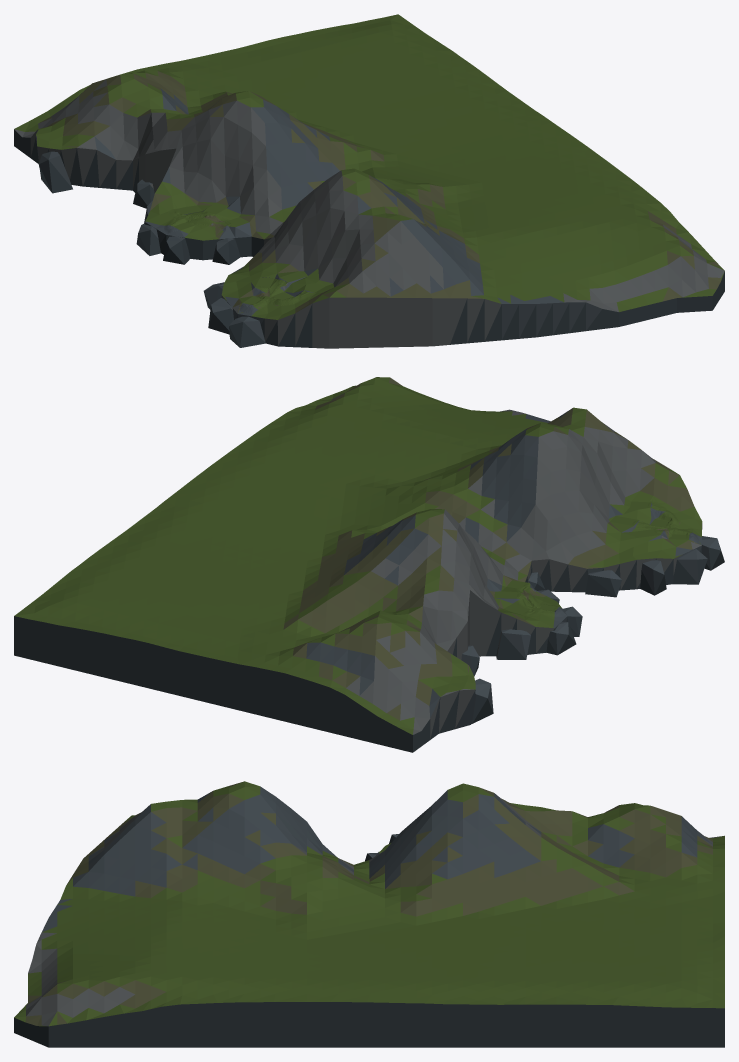
The model's file is mainland_headland.glb.
3 renders of one model, top to bottom at view 1: azimuth 30°, elevation 25°; view 2: azimuth 150°, elevation 25°; view 3: azimuth 270°, elevation 25°, orthographic. The views are drawn at different scales.
Parts seen in each view (by area): view 1: Mainland headland continuous bedrock and grass terraces; view 2: Mainland headland continuous bedrock and grass terraces; view 3: Mainland headland continuous bedrock and grass terraces.
Boxes of the visible parts, left/top/right/bottom form: Mainland headland continuous bedrock and grass terraces: left=14, top=14, right=724, bottom=348; Mainland headland continuous bedrock and grass terraces: left=14, top=377, right=724, bottom=752; Mainland headland continuous bedrock and grass terraces: left=14, top=781, right=724, bottom=1047.
Bounding box in the file's own units: 294 × 77.4 × 410.
